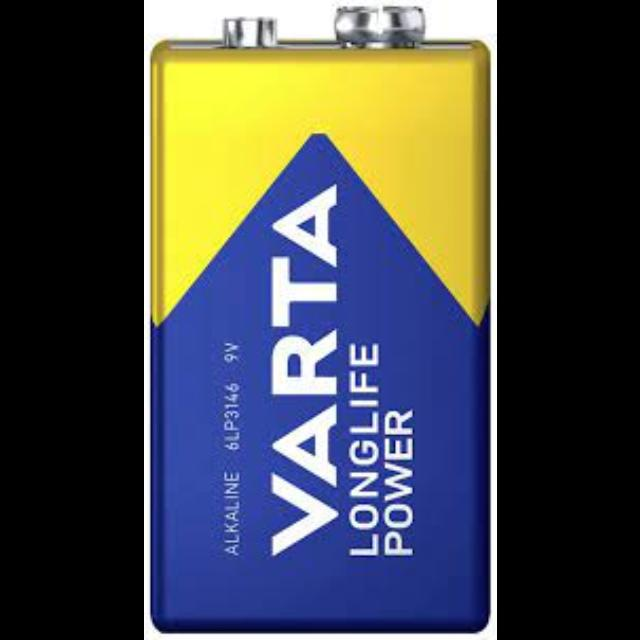Battery: (149, 4, 493, 636)
